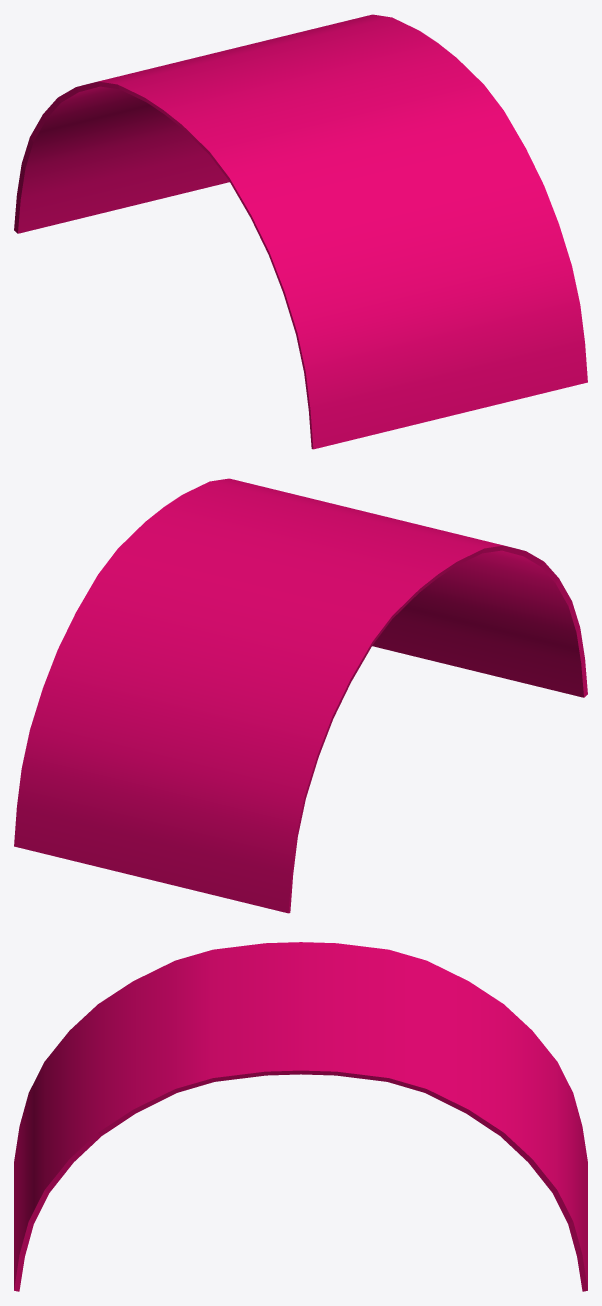
Rendered from Wall_Arch_02_Roof.fbx.
The picture shows the model from 3 angles, top to bottom: view 1: azimuth 30°, elevation 25°; view 2: azimuth 150°, elevation 25°; view 3: azimuth 270°, elevation 25°; orthographic projection. The views are drawn at different scales.
Visible parts, largest first — view 1: Wall_Arch_02_Roof; view 2: Wall_Arch_02_Roof; view 3: Wall_Arch_02_Roof.
Part boxes in pixels (x1=…): Wall_Arch_02_Roof: x1=14, y1=14, x2=587, y2=449; Wall_Arch_02_Roof: x1=14, y1=478, x2=587, y2=913; Wall_Arch_02_Roof: x1=14, y1=942, x2=587, y2=1291.
Bounding box in the file's own units: 302 × 243 × 571.
